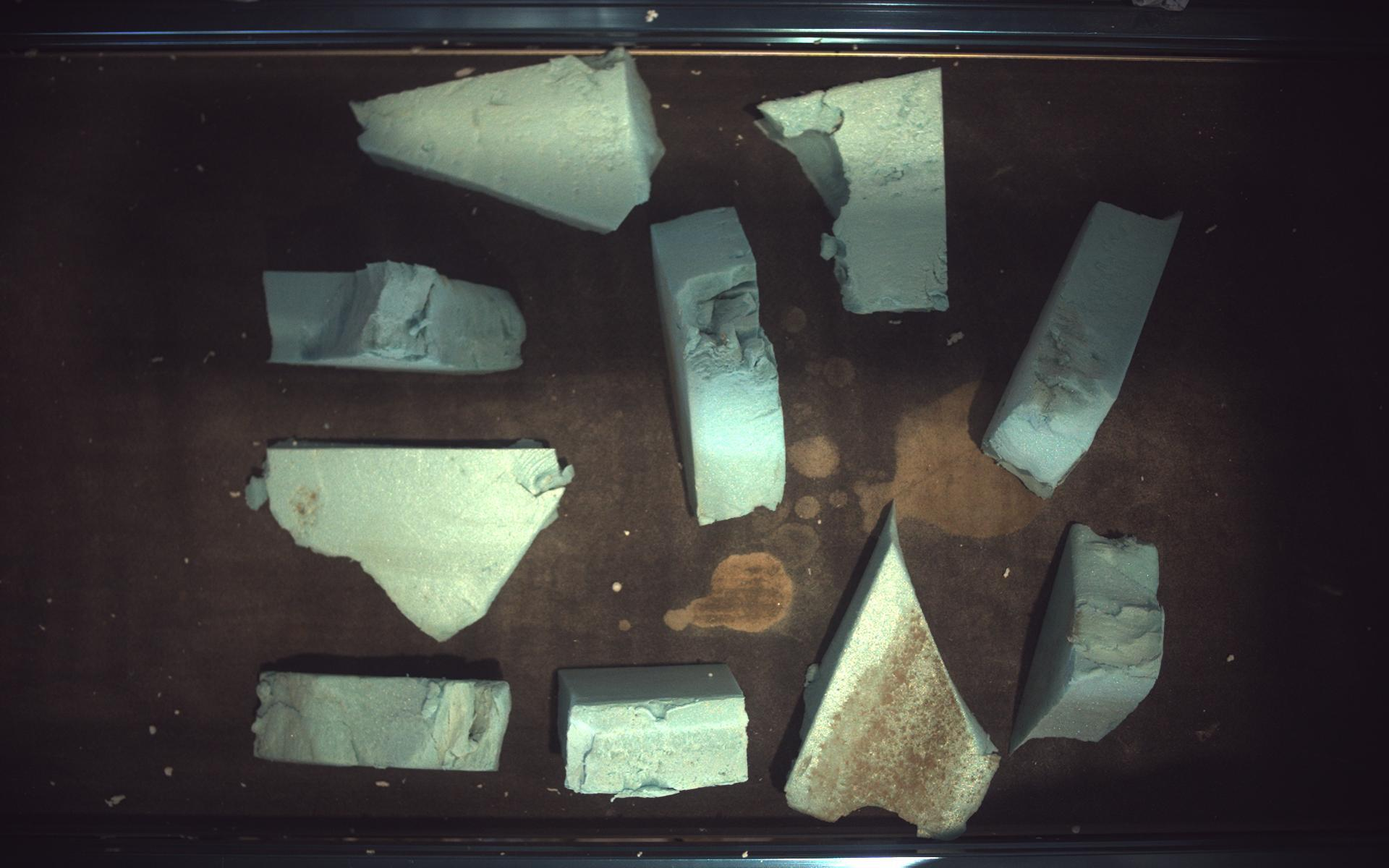foam: (786, 507, 1002, 839), (244, 440, 574, 642), (984, 203, 1184, 498), (352, 48, 665, 232), (759, 67, 950, 313), (653, 206, 786, 525), (1013, 524, 1168, 753), (263, 260, 527, 373), (251, 671, 511, 773), (558, 664, 749, 799)
